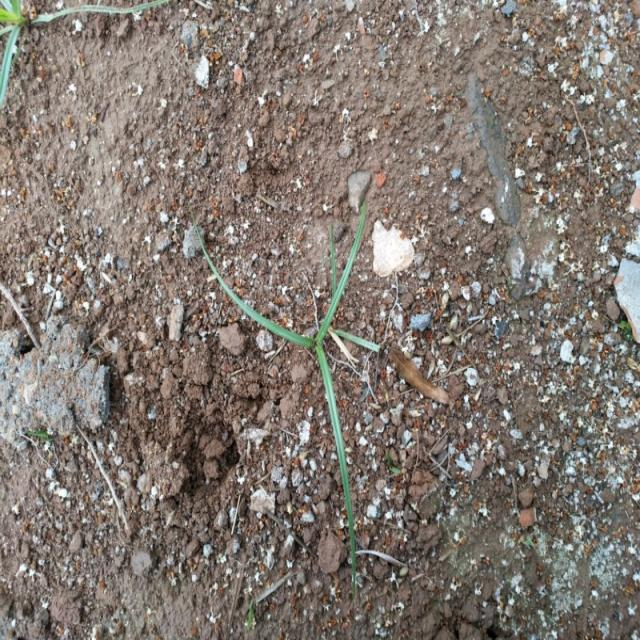sedge: (198, 217, 388, 550)
